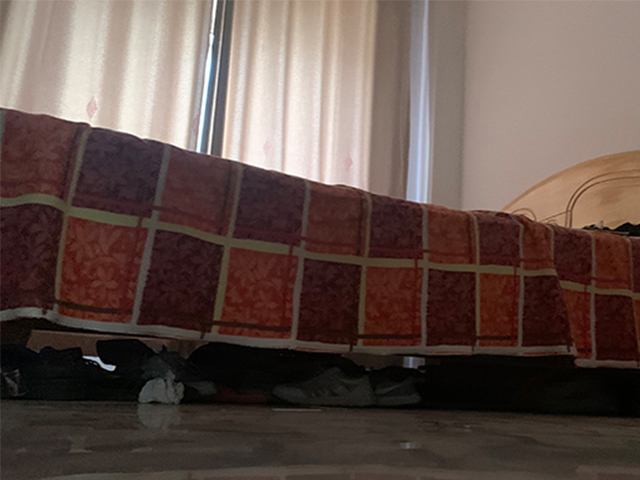bed: (1, 108, 640, 396)
curtain: (224, 2, 405, 197), (3, 1, 210, 153)
